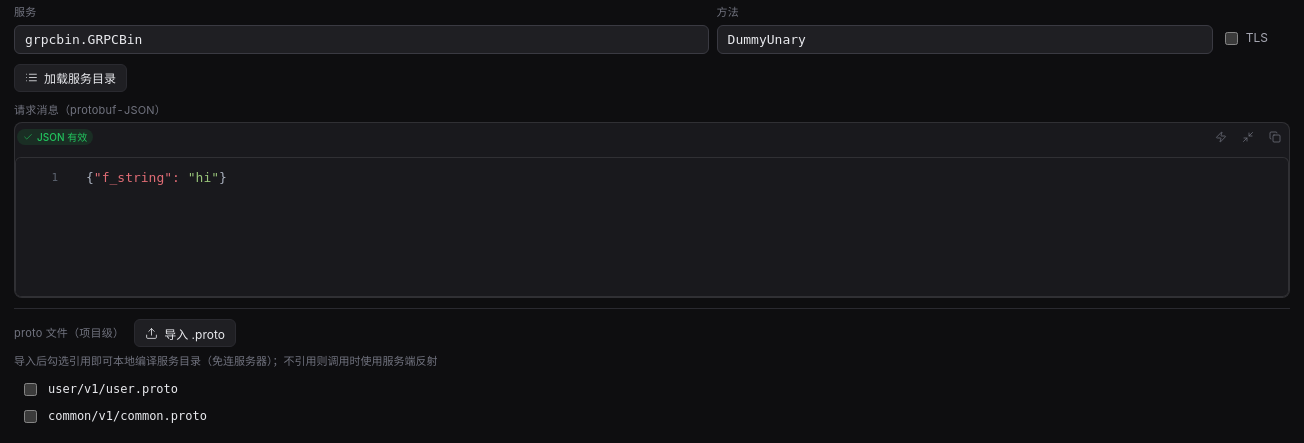
GrpcPanel：服务目录 › 服务端流方法展示「服务端流」徽标
Click the button "加载服务目录" at (70,78), box [14,64,127,92]
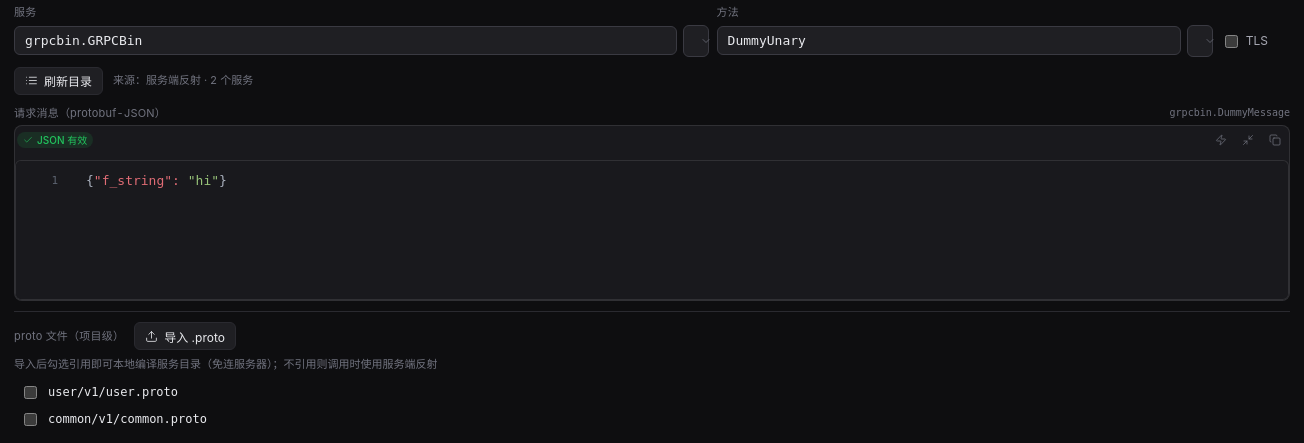
Replace the text in the 1st field with class "miyo-input" with "hello.HelloService" at (345,40), box [14,26,677,55]
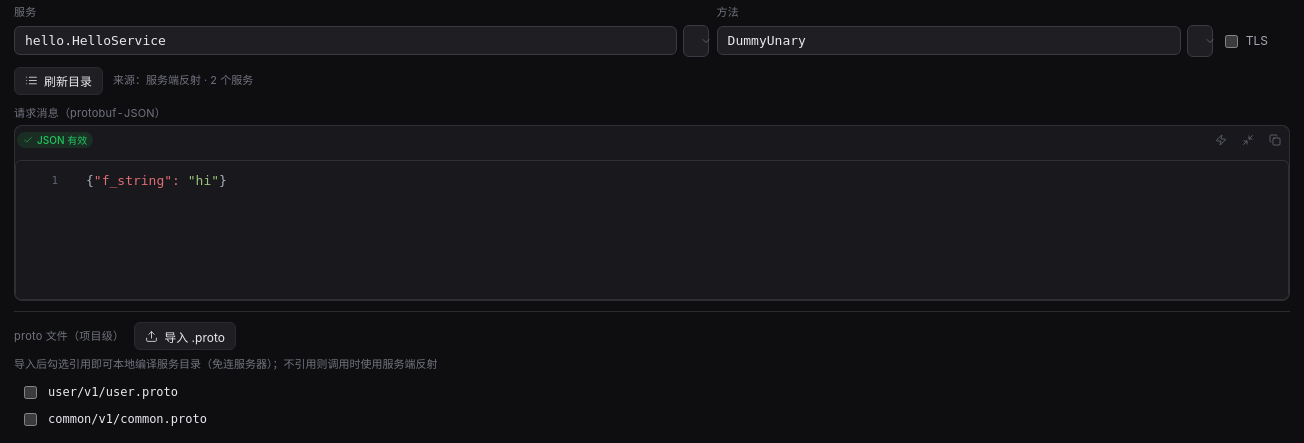
Replace the text in the field with class "miyo-input" below "方法" with "LotsOfReplies" at (949,40), box [717,26,1181,55]
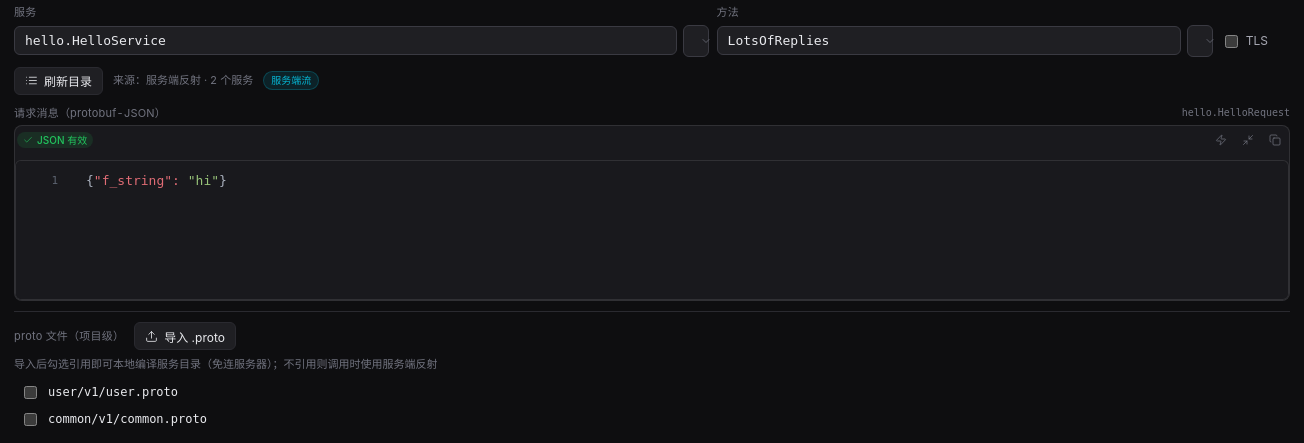
Expected: the text "服务端流" is shown, [263,71,319,90]
Expected: the text with class "stream-badge" reads "服务端流", [271,74,311,86]
